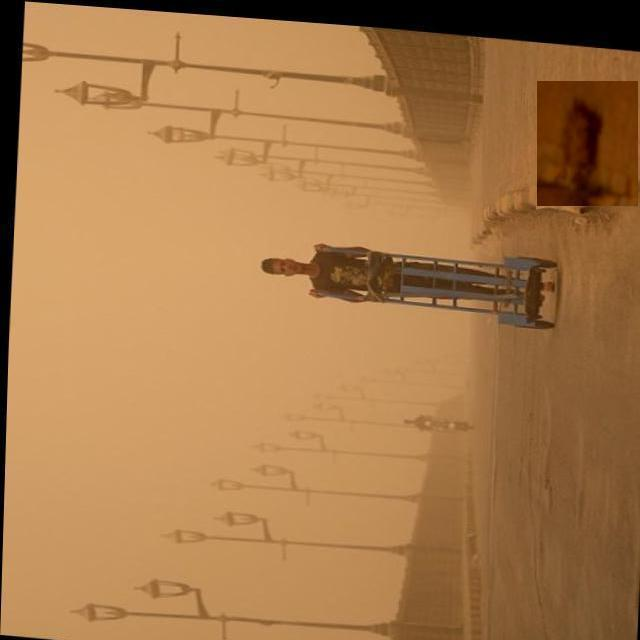Pothole: (537, 81, 638, 206)
